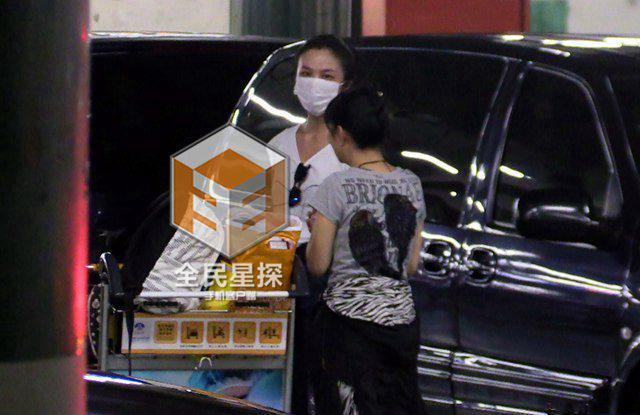face_mask: (296, 50, 341, 119)
